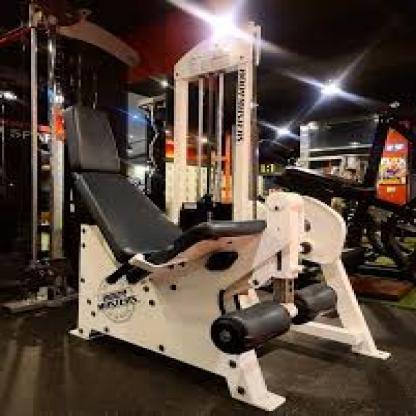leg extension: (47, 17, 392, 413)
